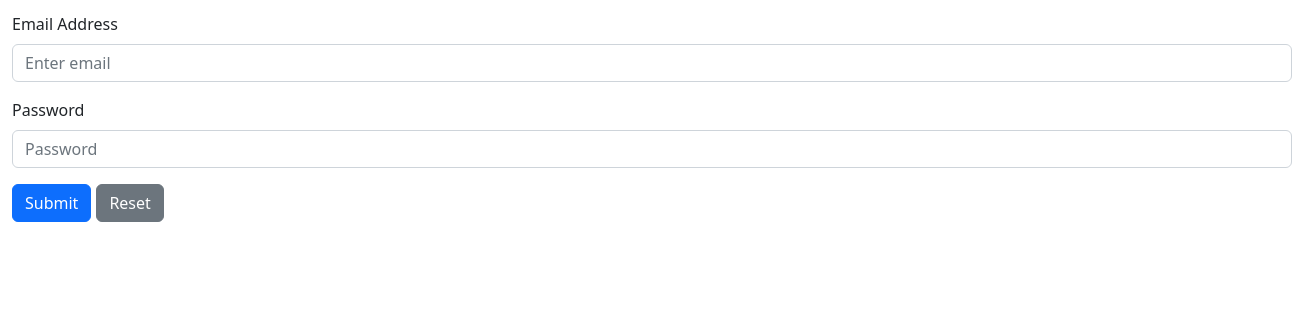
Test: Test the Login Component › should be able to submit the form
In the field with placeholder "Enter email": (652, 63) [12,44,1292,82], type "photon@photon.com"
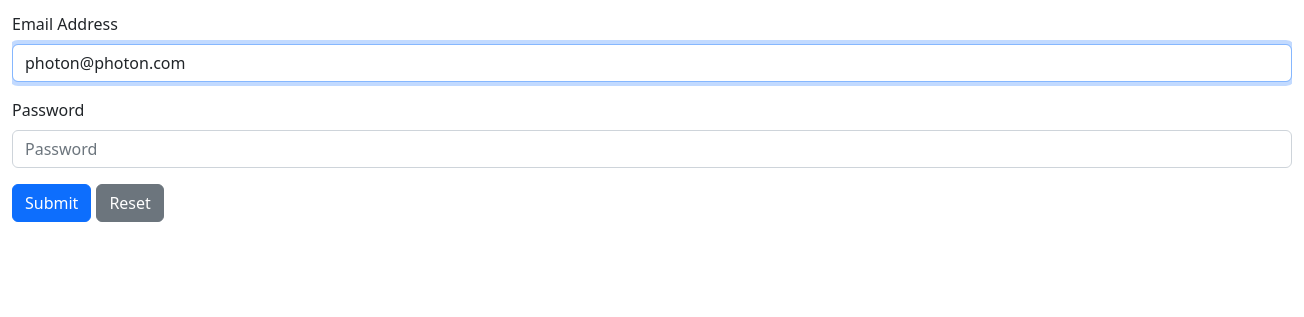
In the password field with placeholder "Password": (652, 149) [12,130,1292,168], type "123456"
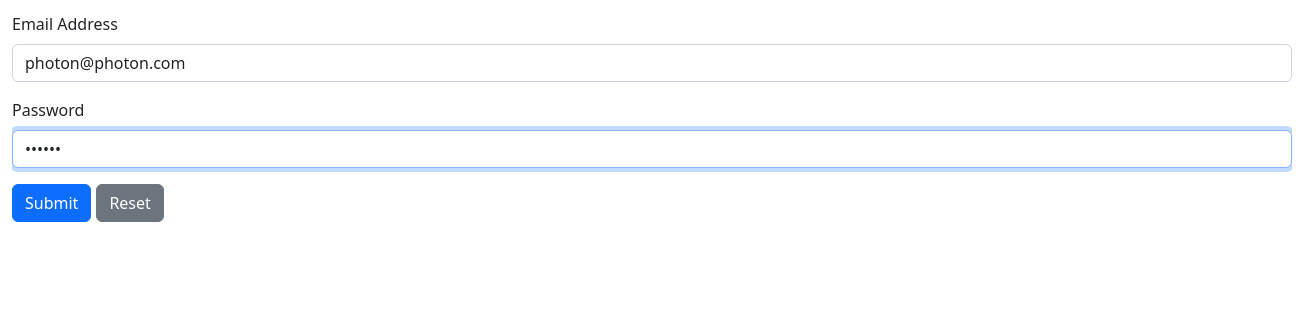
Click the button "Submit": (52, 203) [12,184,91,222]
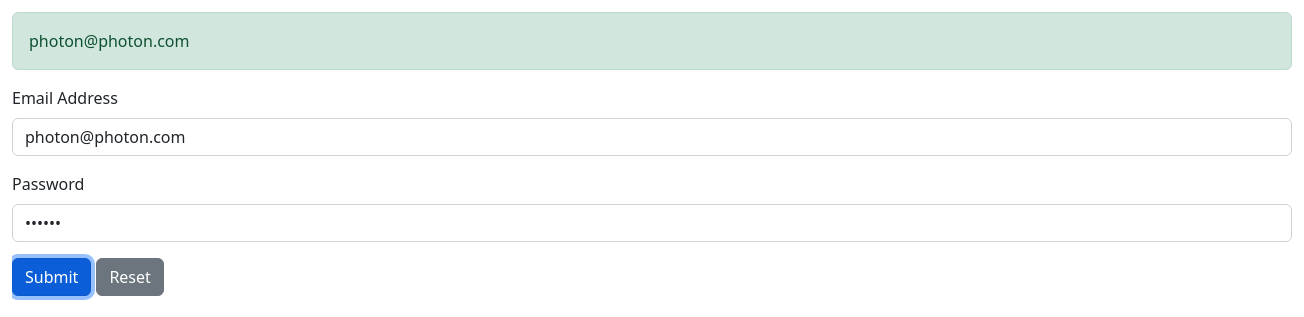
Check: the text "photon@photon.com" is shown, box [12,12,1292,70]
